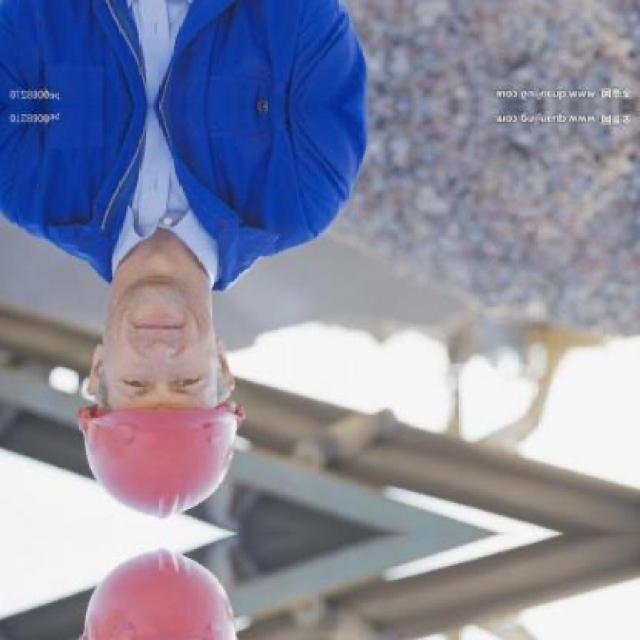con casco: (76, 390, 272, 530)
